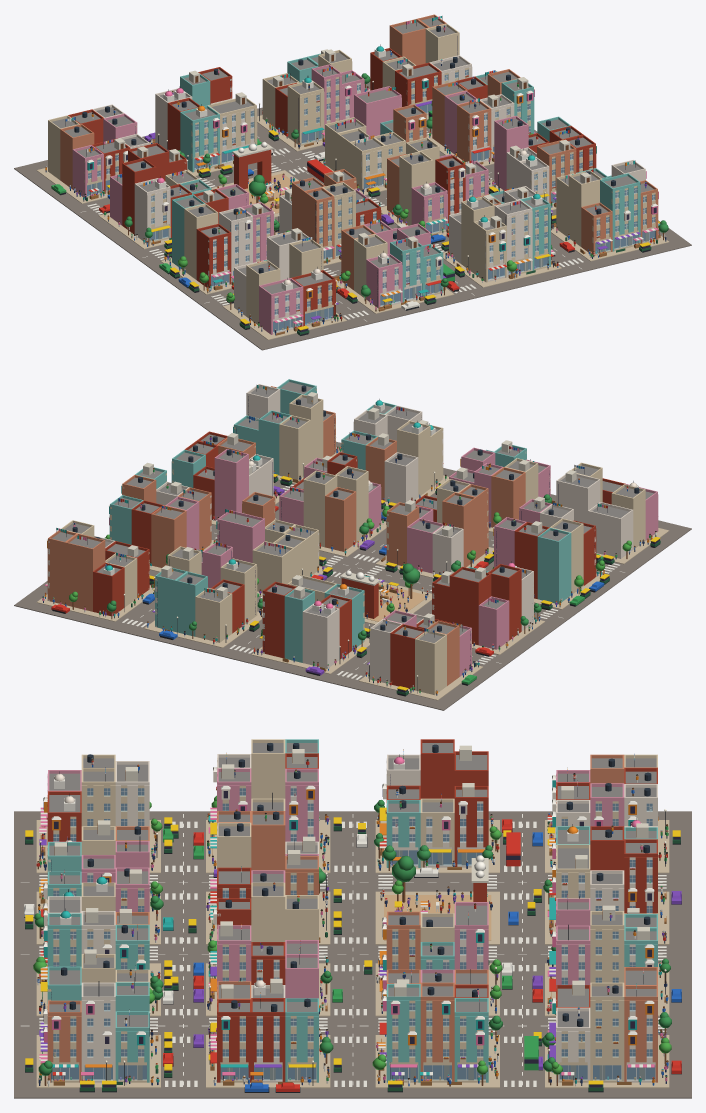
The model's file is quartier.glb.
3 views of the same model, one above another, from view 1: azimuth 30°, elevation 25°; view 2: azimuth 150°, elevation 25°; view 3: azimuth 270°, elevation 25° (orthographic). The views are drawn at different scales.
Parts seen in each view (by area): view 1: Quartier, Vitres; view 2: Quartier; view 3: Quartier, Vitres.
Boxes of the visible parts, box(x1,y1,x2,y2) form: Quartier: box(14, 14, 691, 350); Vitres: box(87, 70, 655, 332); Quartier: box(14, 379, 691, 710); Quartier: box(14, 739, 691, 1098); Vitres: box(51, 788, 655, 1080).
Size of the model in its own units: 120 by 19.45 by 120.
